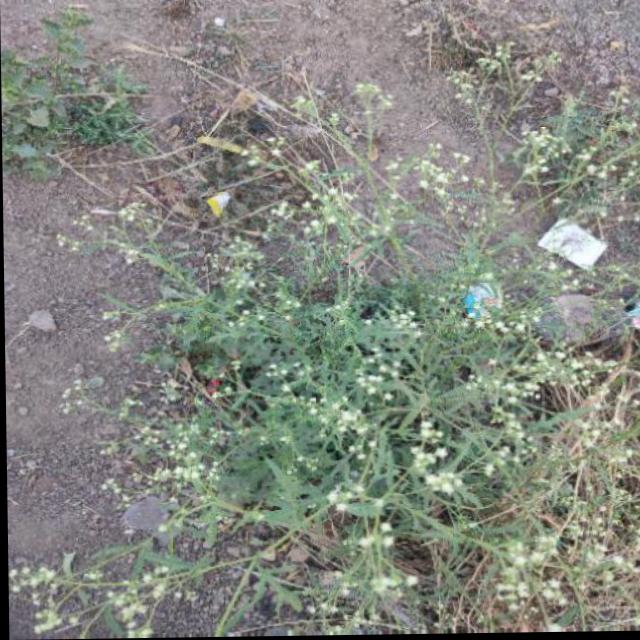weed: (37, 55, 632, 612)
